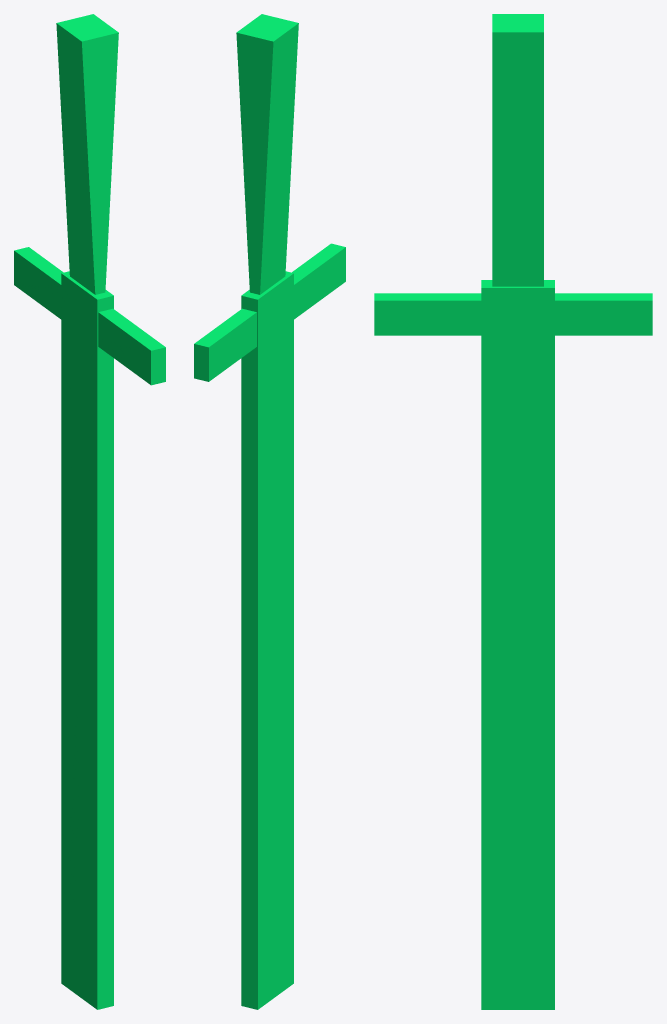
File: TitanSword_Collision.FBX
3 views of the same model, side by side, from view 1: azimuth 30°, elevation 25°; view 2: azimuth 150°, elevation 25°; view 3: azimuth 270°, elevation 25° (orthographic).
Visible parts, largest first — view 1: Sword_Collision; view 2: Sword_Collision; view 3: Sword_Collision.
Boxes of the visible parts, left/top/right/bottom form: Sword_Collision: left=14, top=14, right=165, bottom=1009; Sword_Collision: left=194, top=14, right=345, bottom=1009; Sword_Collision: left=374, top=14, right=652, bottom=1009.
Bounding box in the file's own units: 1.01 × 25.06 × 6.44.
